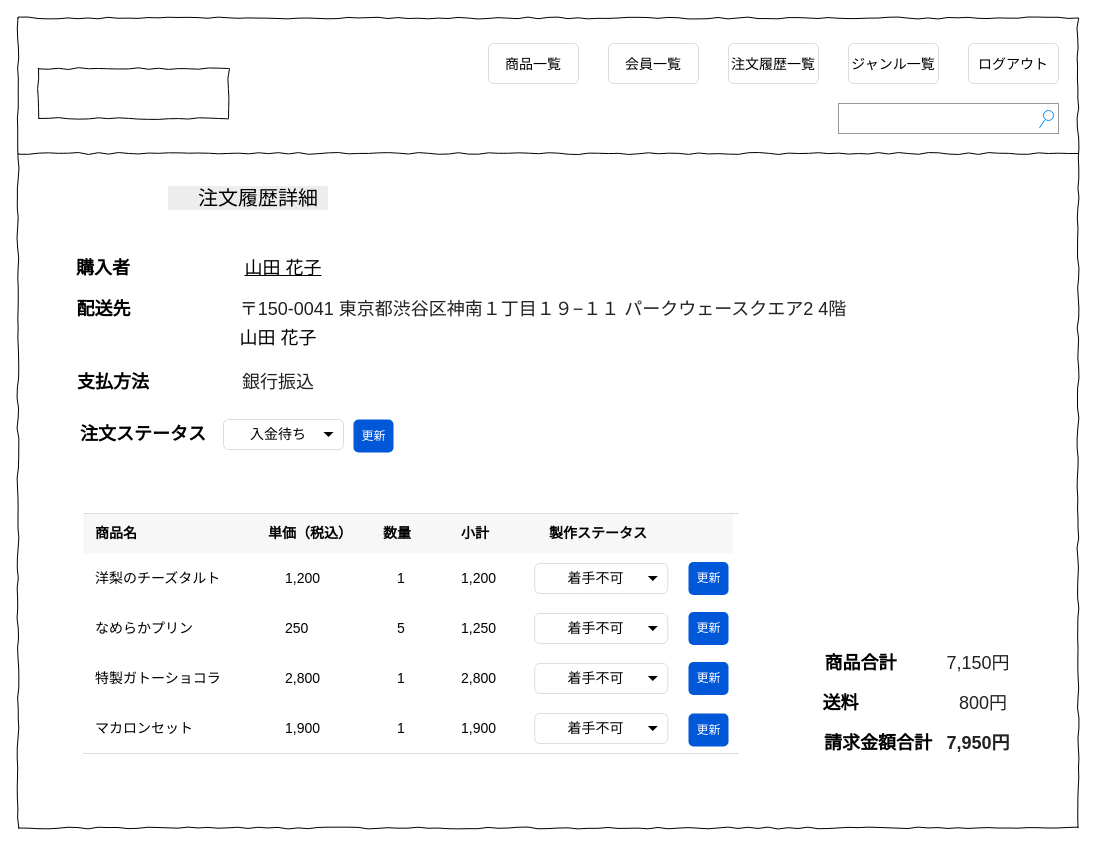
Image size: 1096x845. Some labels were removed from this diagram. The shapes that lost their labels are listed below. From the top down, each one's centre as x and y in pixels, then its label:
point 133,93: LOGO
point 948,118: Search
